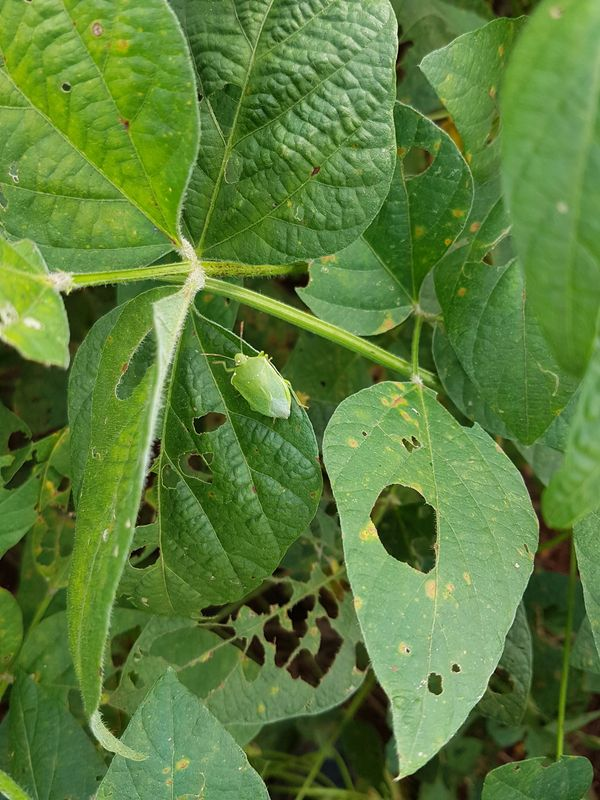Nezara_viridula_adulto: (190, 312, 323, 441)
